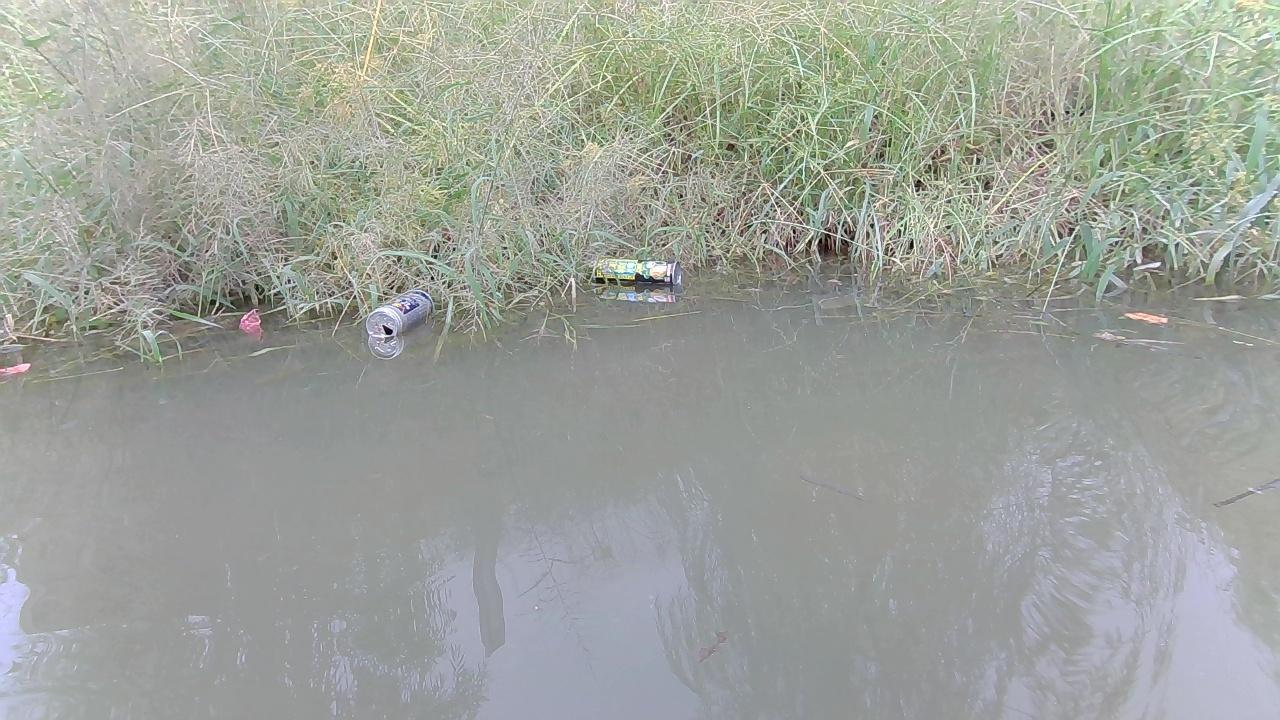bottle: (585, 257, 688, 295), (361, 287, 437, 335)
